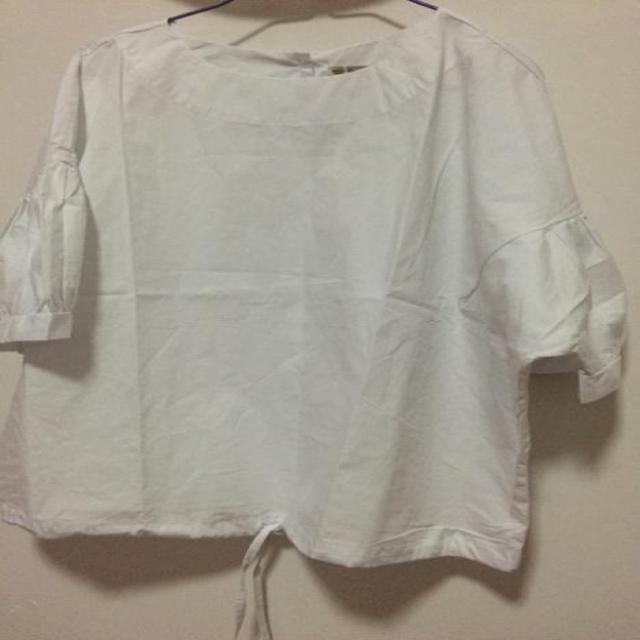short-sleeve-top: (24, 14, 640, 611)
